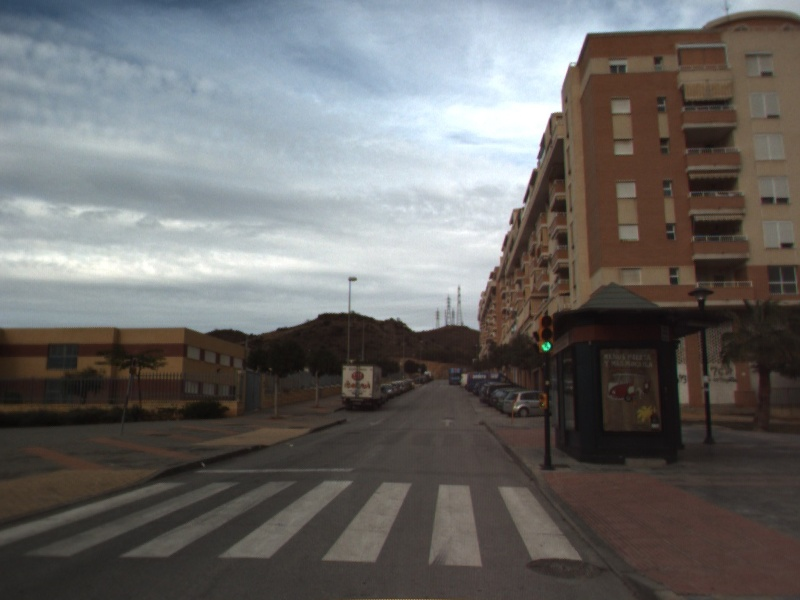STRAIGHT: (440, 416, 456, 428)
